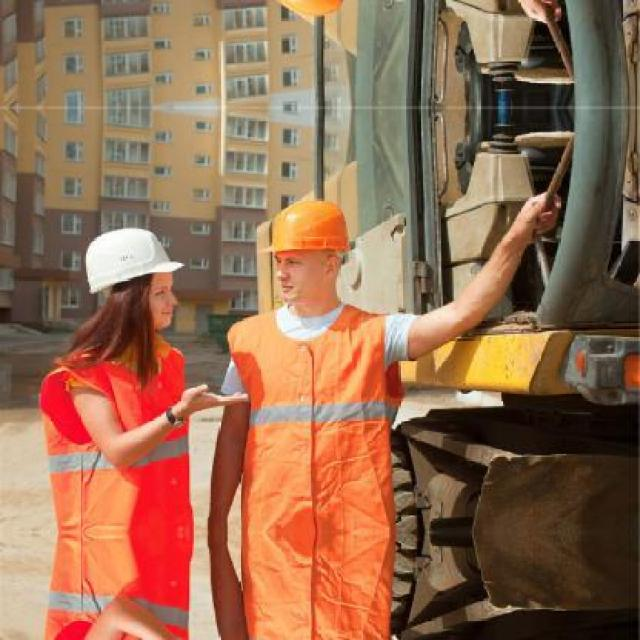Reflective-Jacket: (220, 298, 426, 554), (31, 336, 198, 544)
Safety-Helmet: (252, 189, 370, 271), (74, 220, 189, 302), (44, 614, 102, 640)
